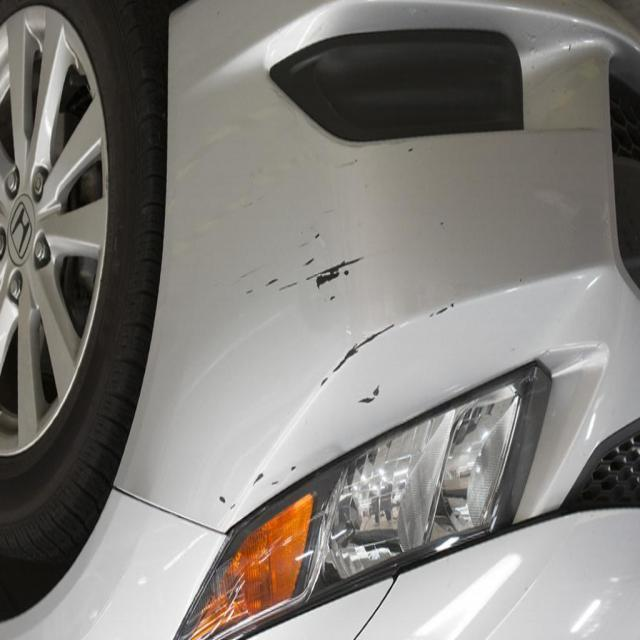scratch: (167, 212, 476, 566)
